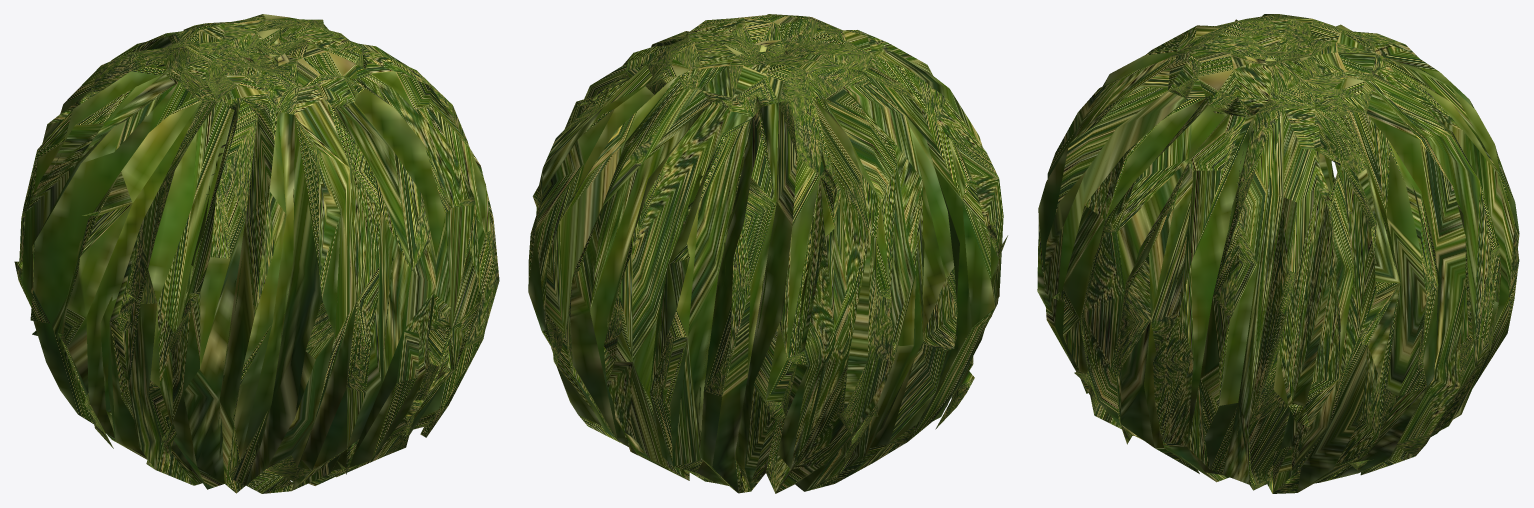
The model's file is desert-plants-golden-barrel-cactus.glb.
The picture shows the model from 3 angles, left to right: view 1: azimuth 30°, elevation 25°; view 2: azimuth 150°, elevation 25°; view 3: azimuth 270°, elevation 25°; orthographic projection.
Parts seen in each view (by area): view 1: world; view 2: world; view 3: world.
Boxes of the visible parts, x1,y1,x2,y2 form: world: (14,14,499,493); world: (528,14,1007,493); world: (1037,14,1519,493).
Bounding box in the file's own units: 0.9355 × 0.8747 × 0.942.
Materials: 1 (1 with a texture image).
